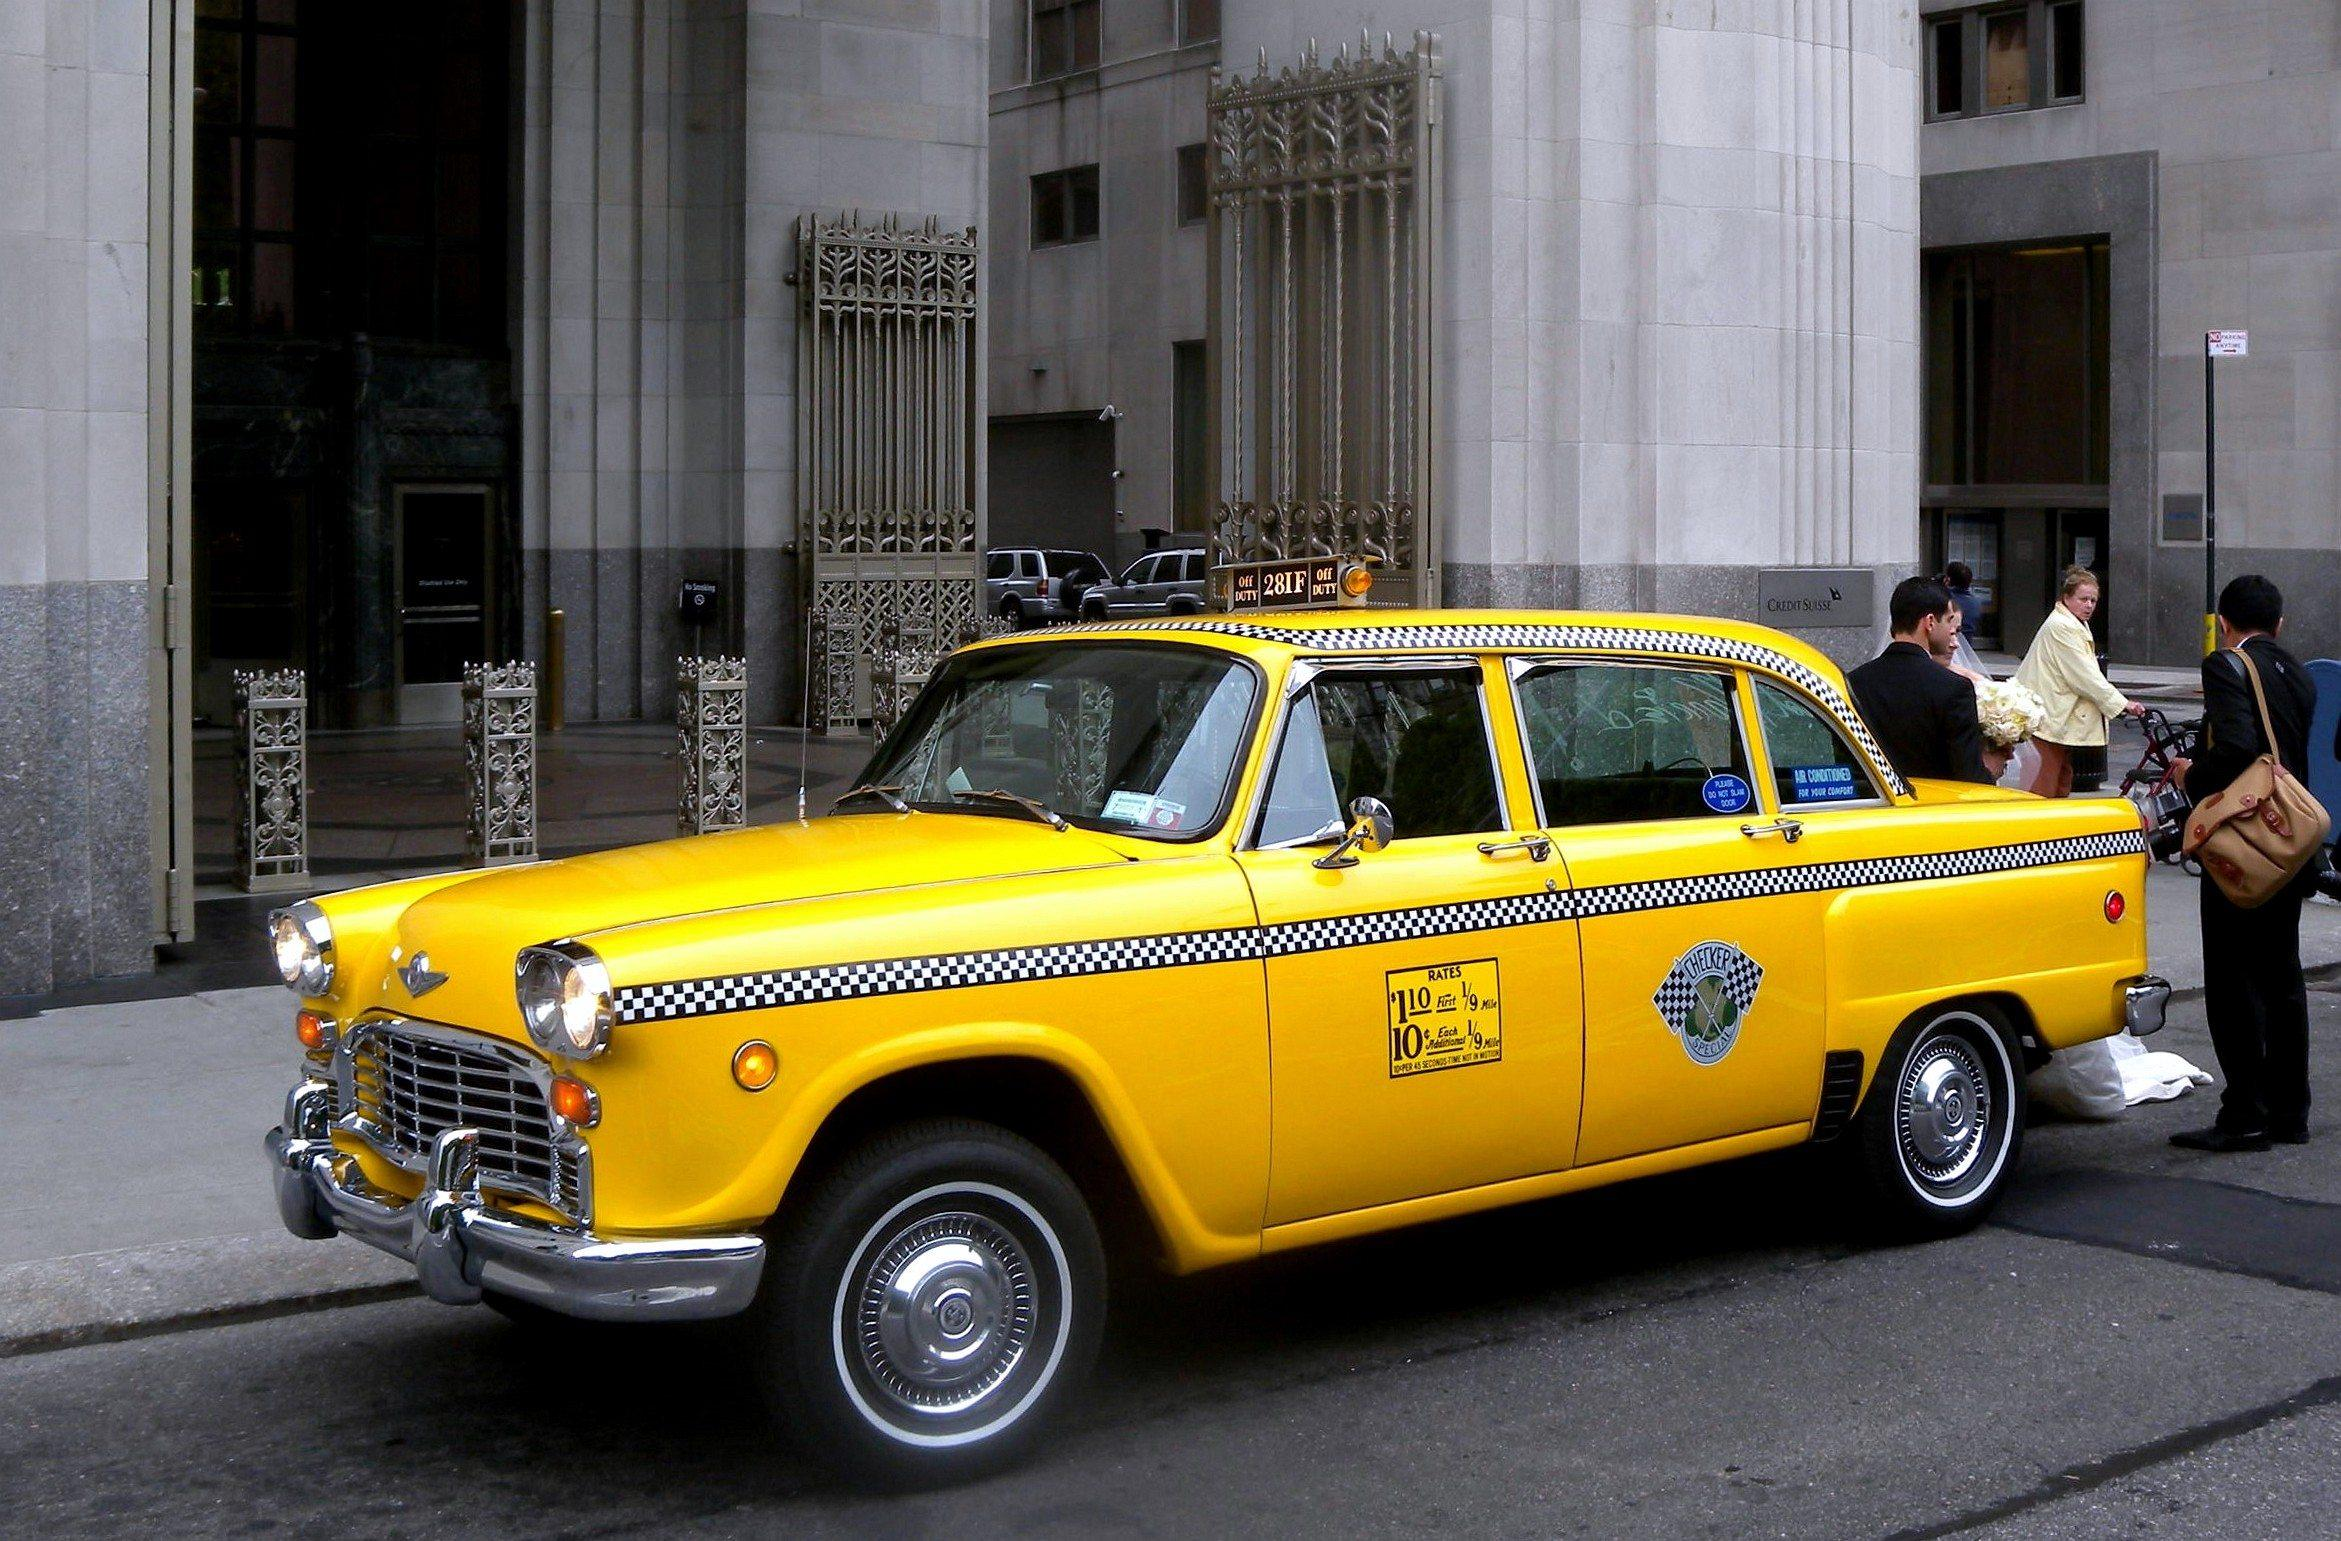taxi: (286, 554, 2073, 1531)
